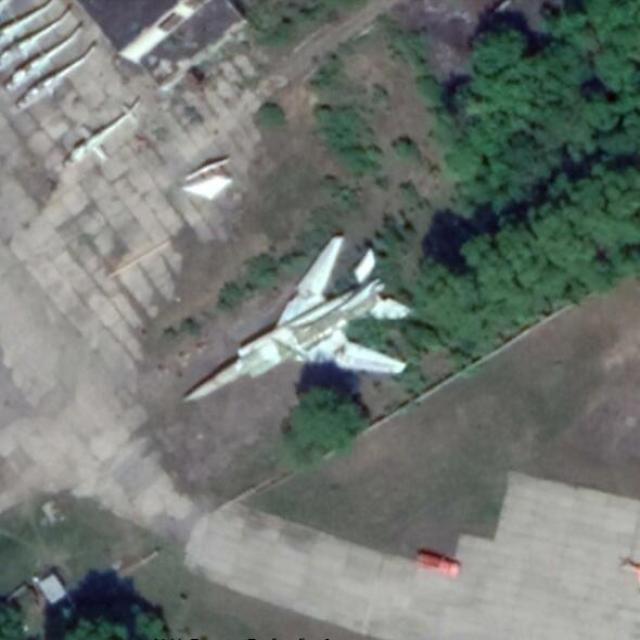fighter jet: (206, 228, 411, 411)
